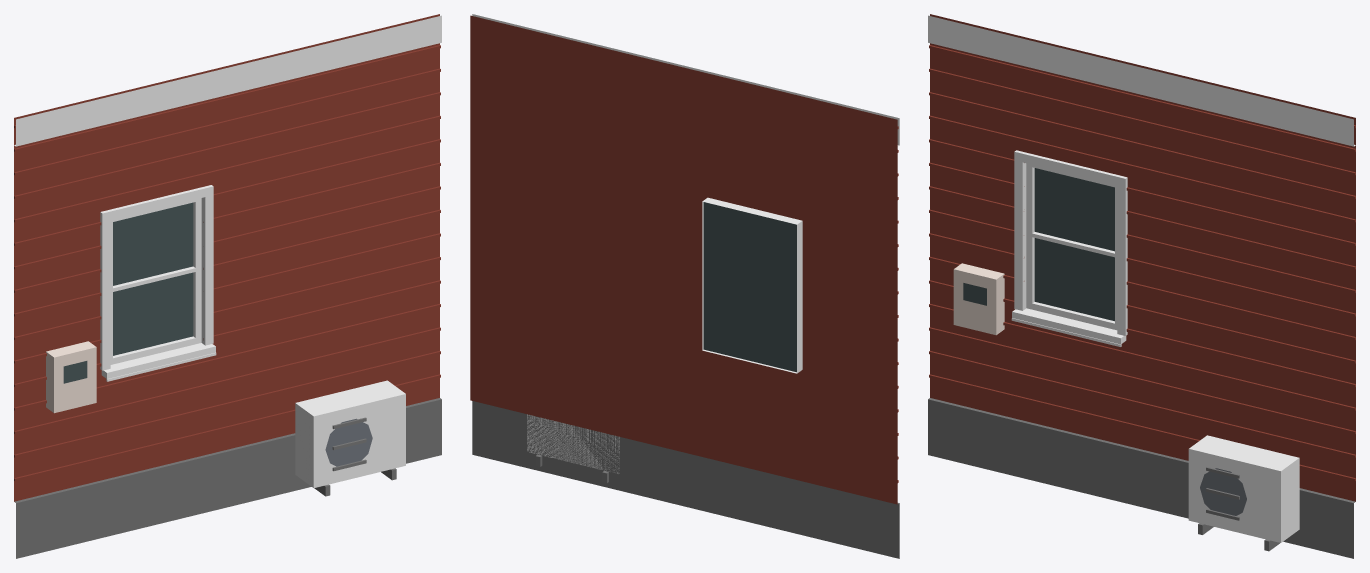
Rendered from base-w2_close.fbx.
3 views of the same model, side by side, from view 1: azimuth 30°, elevation 25°; view 2: azimuth 150°, elevation 25°; view 3: azimuth 330°, elevation 25° (orthographic).
Parts seen in each view (by area): view 1: a2000/200/base-w2_close; view 2: a2000/200/base-w2_close; view 3: a2000/200/base-w2_close.
Boxes of the visible parts, box(x1,y1,x2,y2) form: a2000/200/base-w2_close: box(14, 14, 441, 558); a2000/200/base-w2_close: box(470, 14, 899, 558); a2000/200/base-w2_close: box(928, 14, 1355, 558).
Size of the model in its own units: 3.6 by 3.55 by 0.4.
